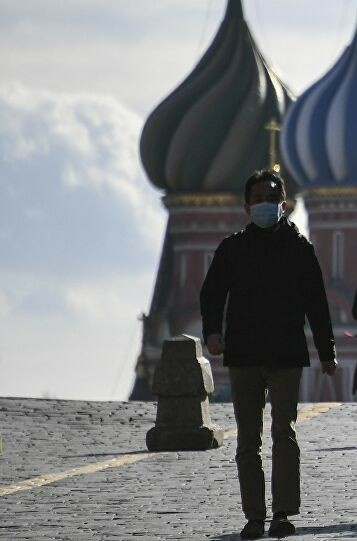with_mask: (244, 171, 291, 233)
